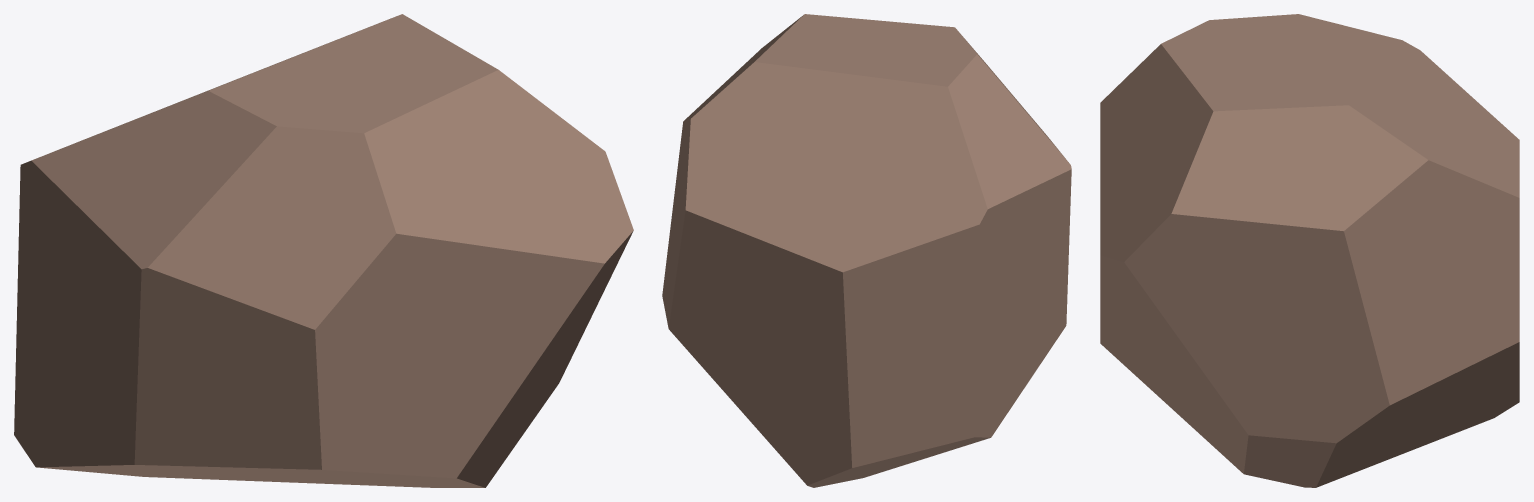
Rendered from rock1.glb.
The picture shows the model from 3 angles, left to right: view 1: azimuth 30°, elevation 25°; view 2: azimuth 150°, elevation 25°; view 3: azimuth 270°, elevation 25°; orthographic projection. The views are drawn at different scales.
Parts seen in each view (by area): view 1: Large Rock; view 2: Large Rock; view 3: Large Rock.
Part boxes in pixels (x1=…): Large Rock: x1=14, y1=14, x2=633, y2=487; Large Rock: x1=662, y1=14, x2=1071, y2=487; Large Rock: x1=1100, y1=14, x2=1519, y2=487.
Size of the model in its own units: 3.36 by 3.36 by 3.36.
